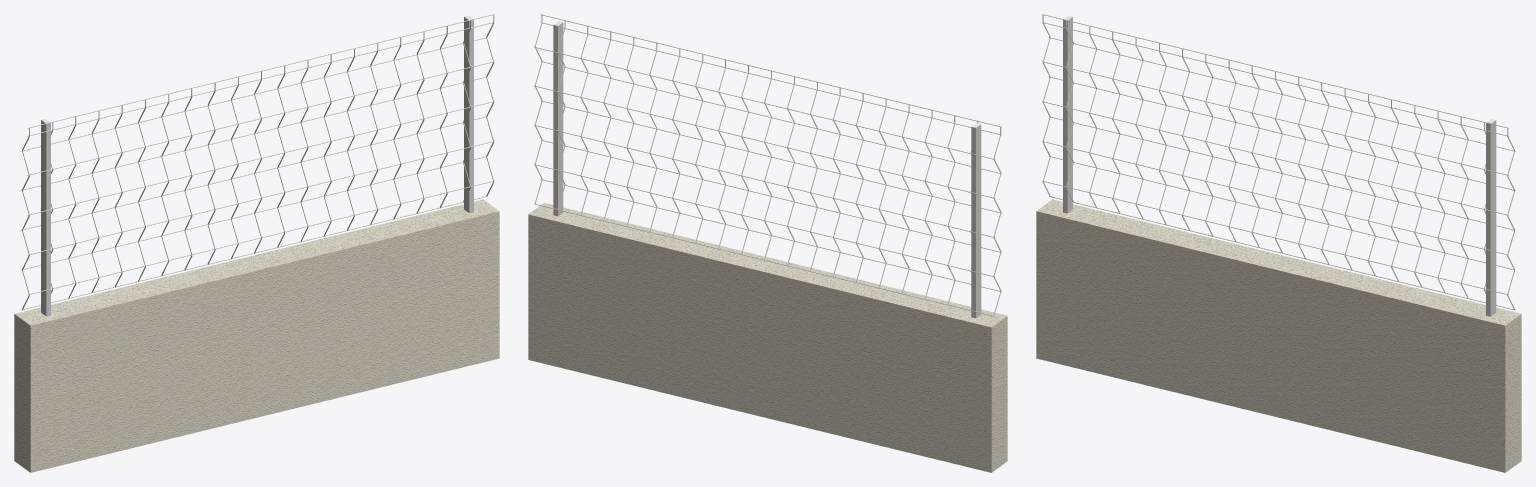
Rendered from H800-CB_matwhite.fbx.
3 views of the same model, side by side, from view 1: azimuth 30°, elevation 25°; view 2: azimuth 150°, elevation 25°; view 3: azimuth 330°, elevation 25° (orthographic).
Parts seen in each view (by area): view 1: H800-CB_white; view 2: H800-CB_white; view 3: H800-CB_white.
Boxes of the visible parts, x1,y1,x2,y2 form: H800-CB_white: (14, 14, 499, 472); H800-CB_white: (528, 14, 1007, 472); H800-CB_white: (1036, 14, 1521, 472).
Bounding box in the file's own units: 200 × 139 × 12.
3 materials, 3 textured.
